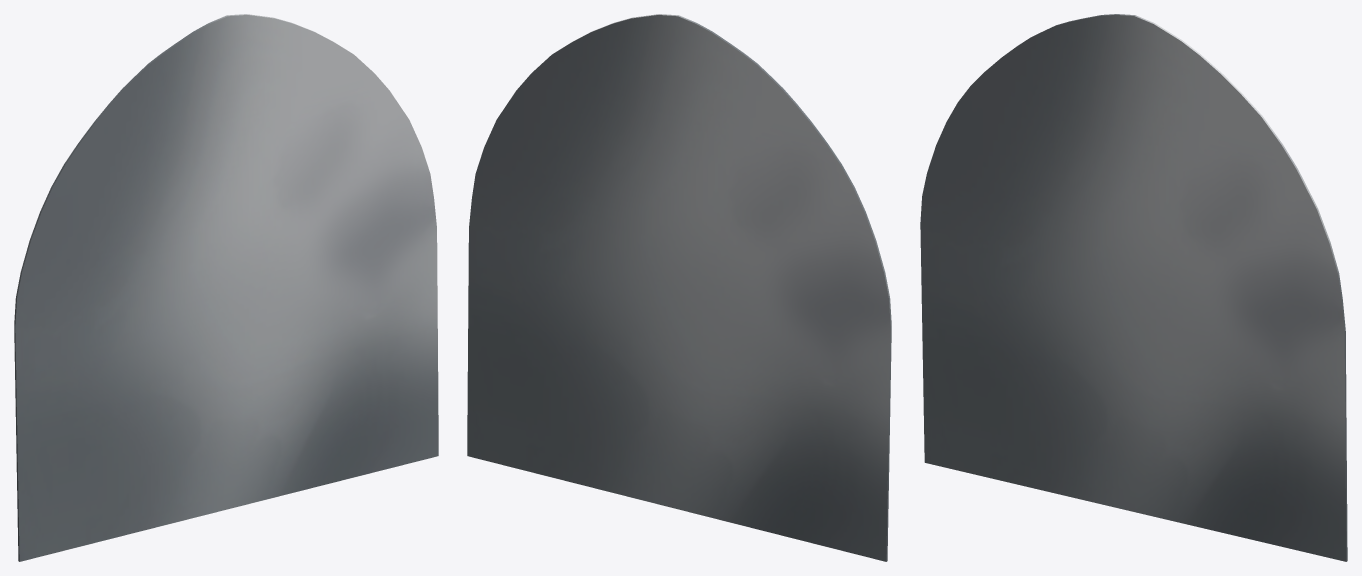
File: Stealth.glb
3 renders of one model, left to right at view 1: azimuth 30°, elevation 25°; view 2: azimuth 150°, elevation 25°; view 3: azimuth 330°, elevation 25°, orthographic.
Parts seen in each view (by area): view 1: Circle.006; view 2: Circle.006; view 3: Circle.006.
Part boxes in pixels (x1=…): Circle.006: x1=14, y1=14, x2=438, y2=561; Circle.006: x1=467, y1=14, x2=891, y2=561; Circle.006: x1=920, y1=14, x2=1347, y2=561.
Bounding box in the file's own units: 4.08 × 4.56 × 0.02.
1 material, 1 textured.
